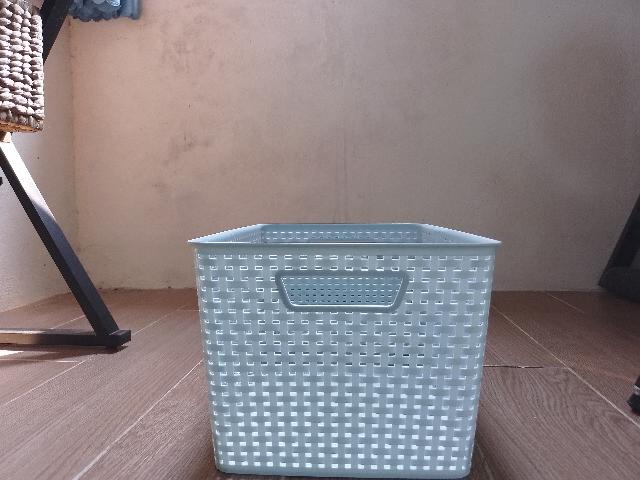cart: (186, 223, 503, 479)
